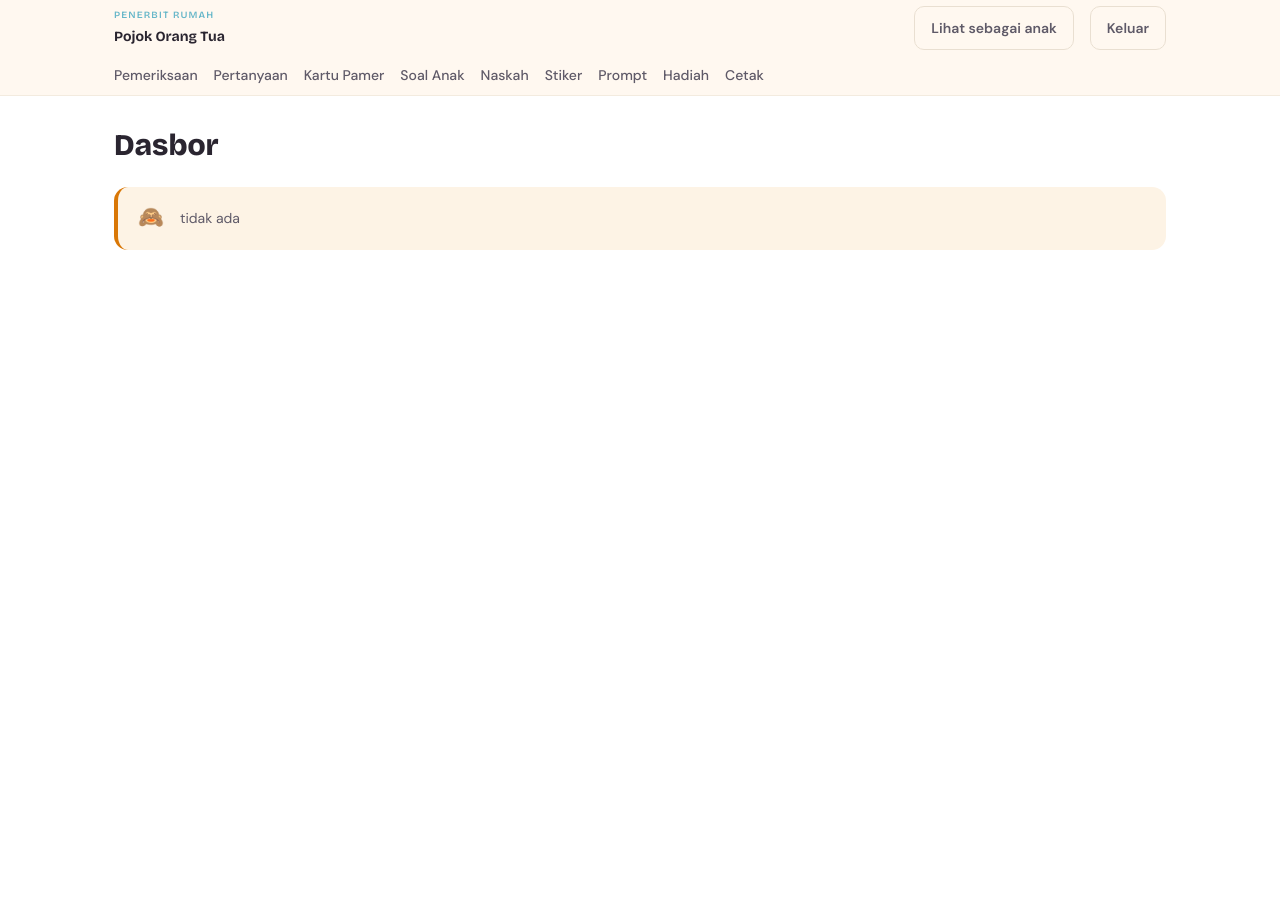
Masuk › orang tua bisa "Lihat sebagai anak" lalu kembali ke Pojok Orang Tua
This screenshot has width=1280, height=900.
Click the button "Lihat sebagai anak": (994, 28) [914,6,1074,50]
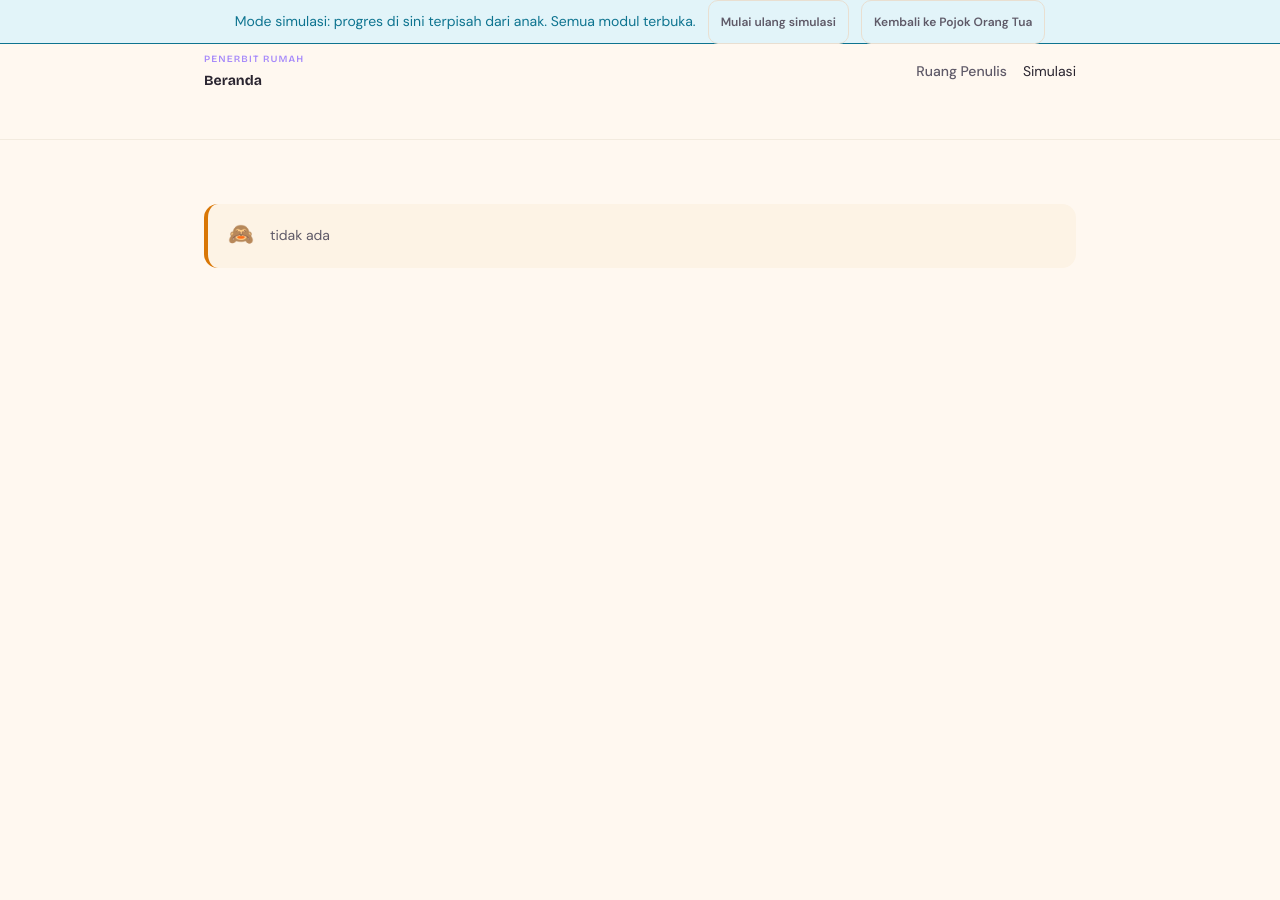
Now the text "Mode simulasi" is shown, box [235,12,327,30]
Now the button "Keluar" is gone
Click the button "Kembali ke Pojok Orang Tua": (953, 22) [861,0,1045,44]
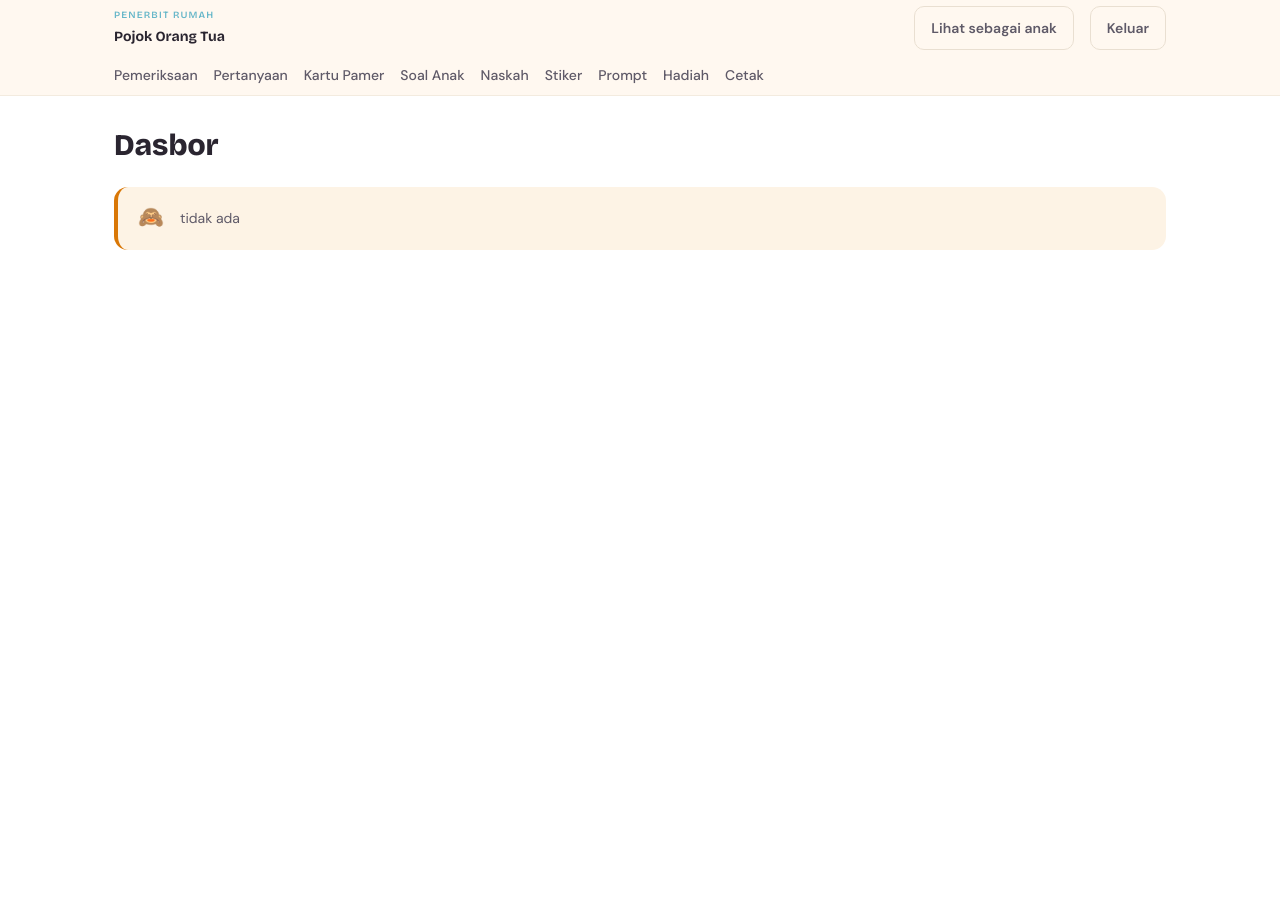
Now the heading "Dasbor" is shown, box [114,127,219,163]
